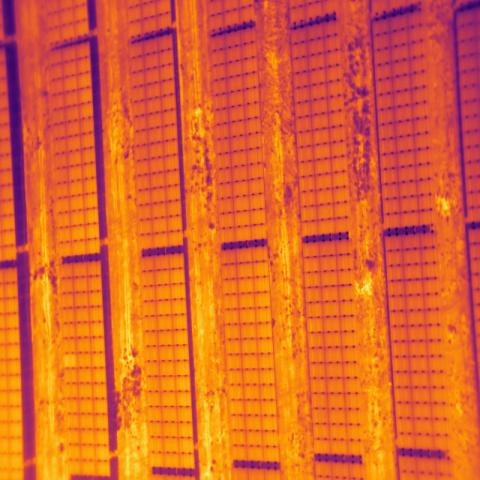fault: (62, 351, 76, 368)
